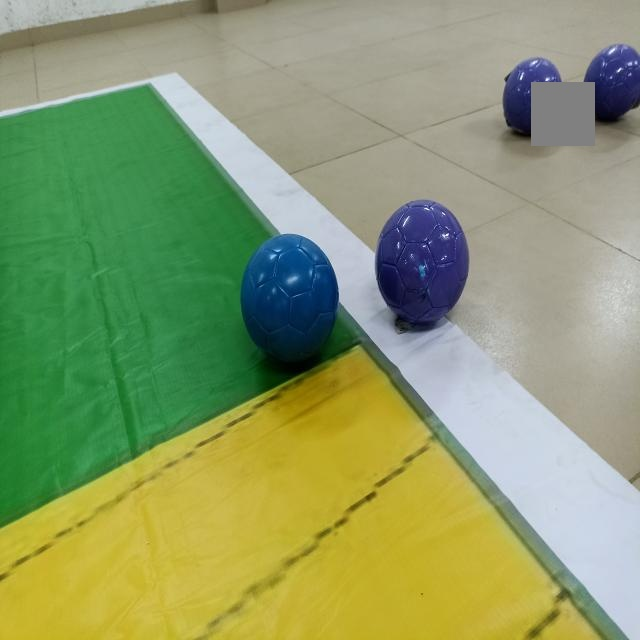blue_ball: (236, 224, 345, 369)
purple_ball: (374, 192, 470, 335), (502, 50, 566, 134), (583, 34, 640, 128)
